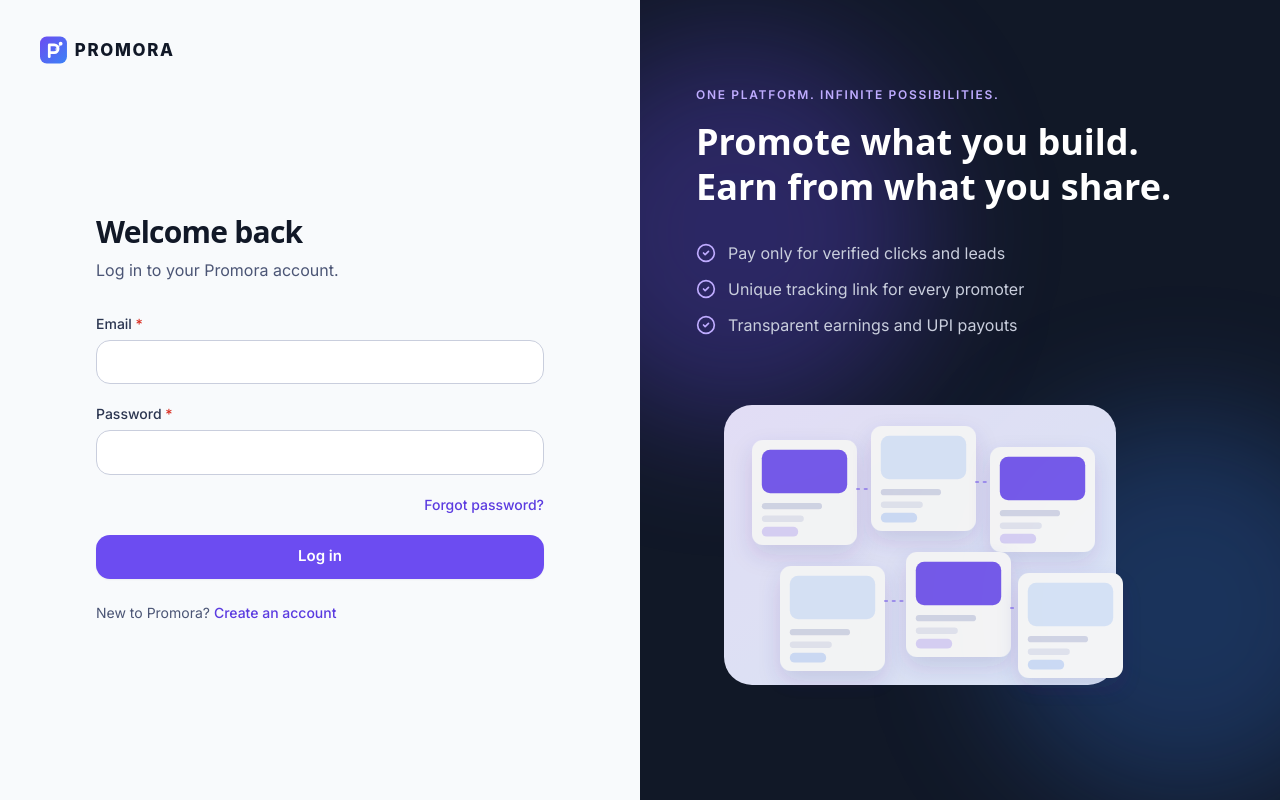
Test case: login › shows the API error for wrong credentials
This screenshot has width=1280, height=800.
Type "a@b.in" into the field labelled "Email *" at point(320, 362), box [96,340,544,384]
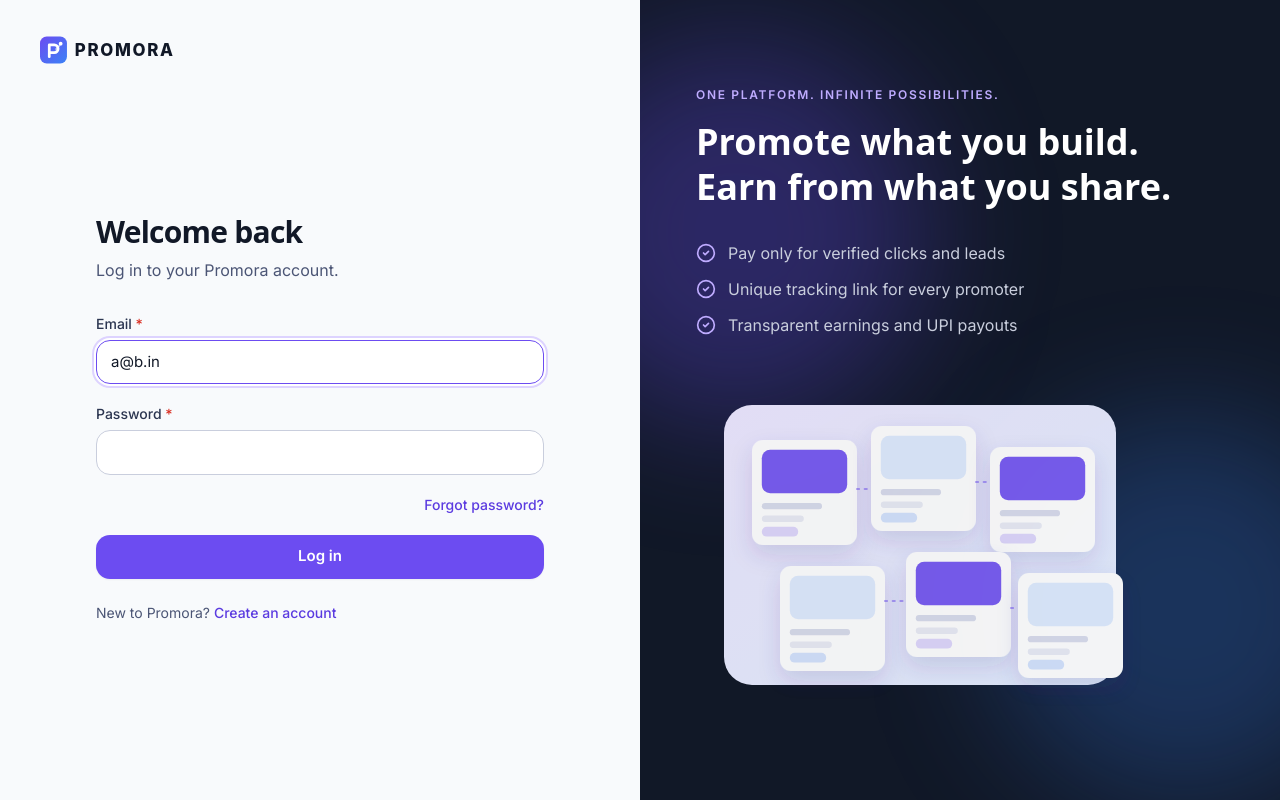
Type "wrong" into the password field labelled "Password *" at point(320, 452), box [96,430,544,474]
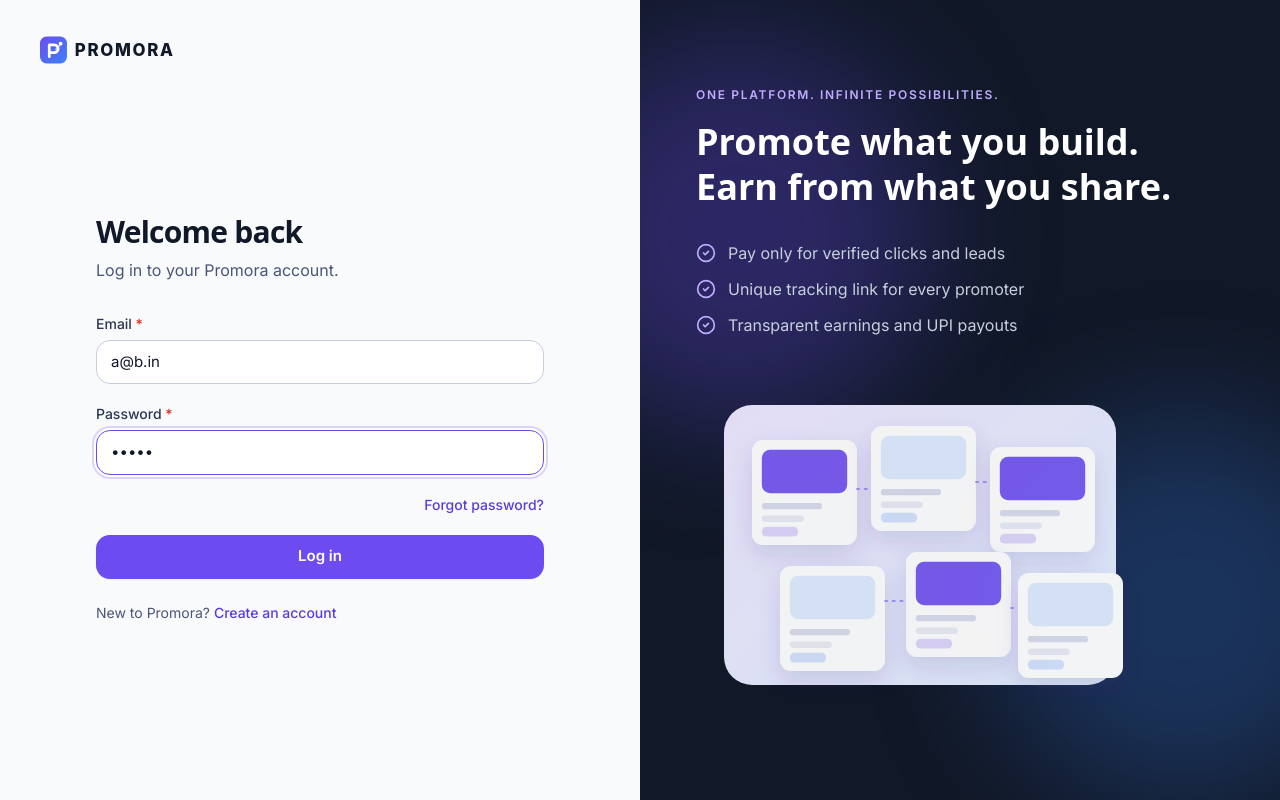
Click the button "Log in" at point(320, 556), box [96,534,544,578]
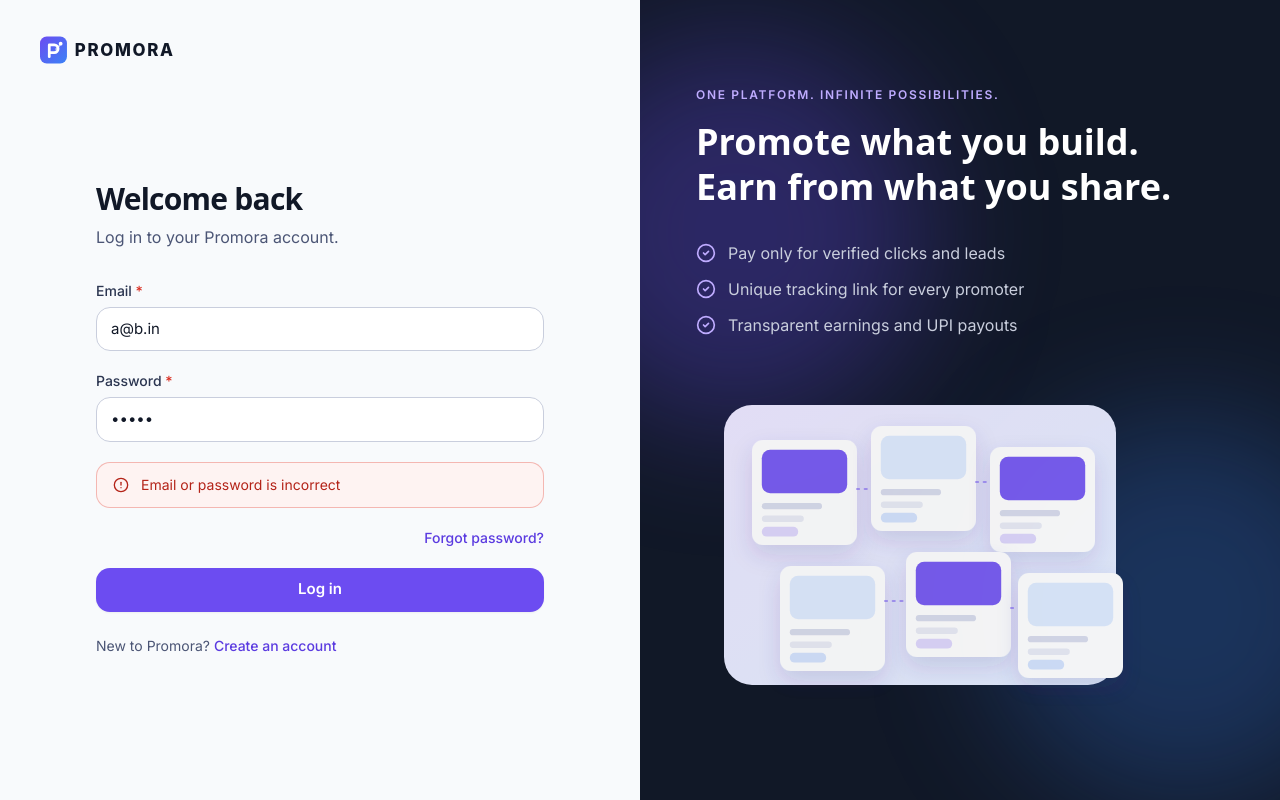
Now the text "Email or password is incorrect" is shown, box [141,476,340,492]
